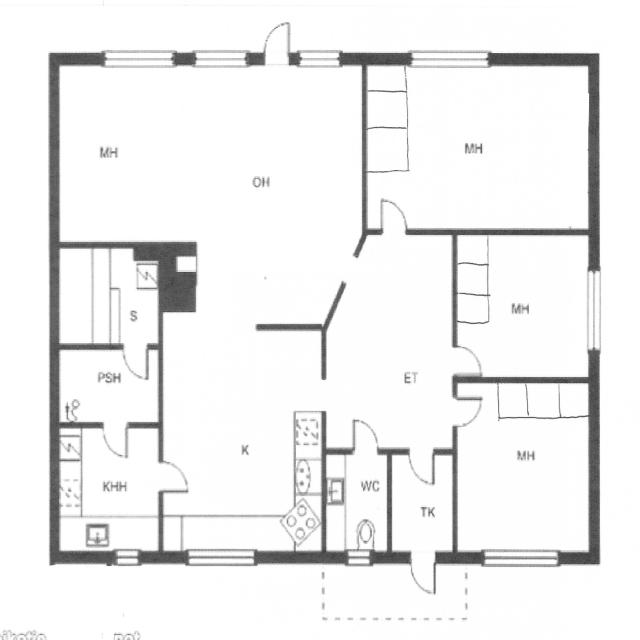door: (56, 345, 160, 424), (391, 447, 454, 559), (260, 18, 296, 68), (154, 454, 192, 497), (407, 549, 439, 599), (448, 390, 486, 430), (449, 340, 487, 380), (347, 414, 383, 456), (98, 418, 132, 462), (118, 342, 153, 383), (377, 194, 410, 235), (405, 447, 438, 488)
window: (580, 257, 609, 362), (477, 542, 565, 575), (404, 44, 496, 74), (179, 542, 263, 573), (97, 45, 180, 74), (188, 46, 252, 73), (293, 46, 349, 72), (108, 545, 146, 570), (342, 548, 376, 570)
zone: (49, 58, 364, 252), (362, 60, 596, 233), (158, 318, 330, 553), (325, 235, 456, 456), (453, 376, 596, 558), (453, 229, 596, 381), (55, 424, 161, 556), (53, 242, 161, 350), (55, 348, 164, 426), (389, 451, 456, 558), (324, 449, 389, 558)
